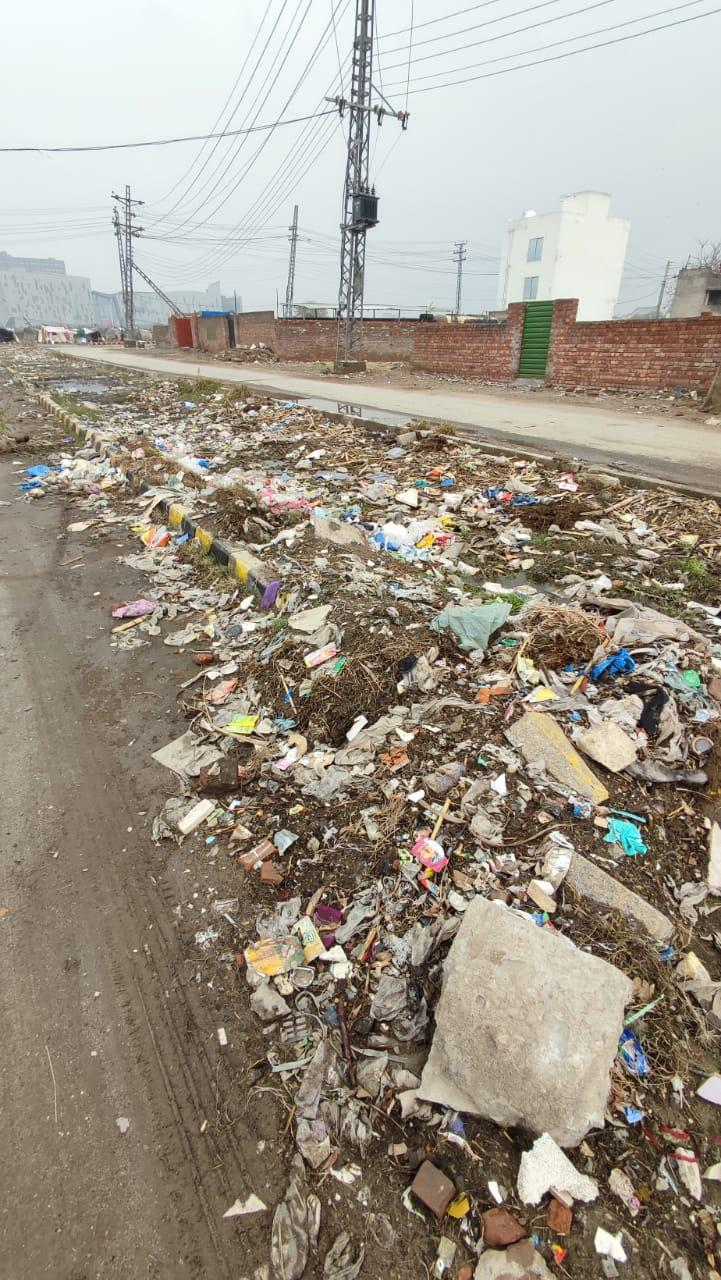garbage: (76, 410, 721, 1265)
